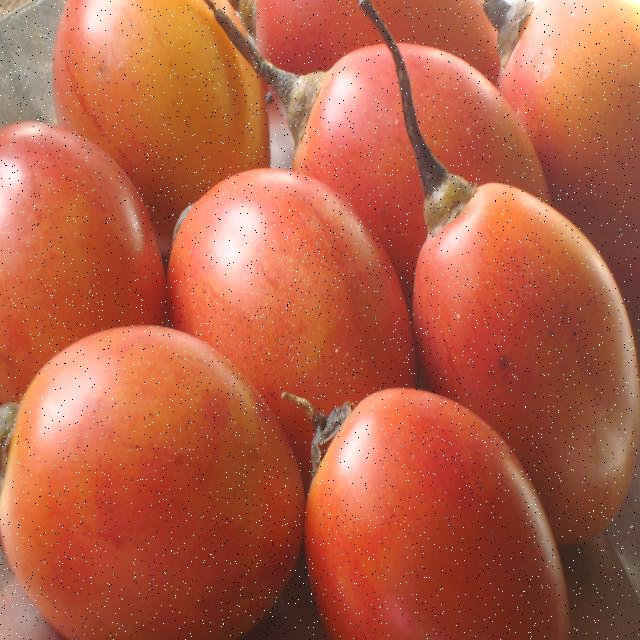Tree Tomato: (0, 305, 304, 640), (233, 33, 569, 300), (302, 373, 634, 640), (431, 172, 640, 560), (37, 0, 287, 217)
